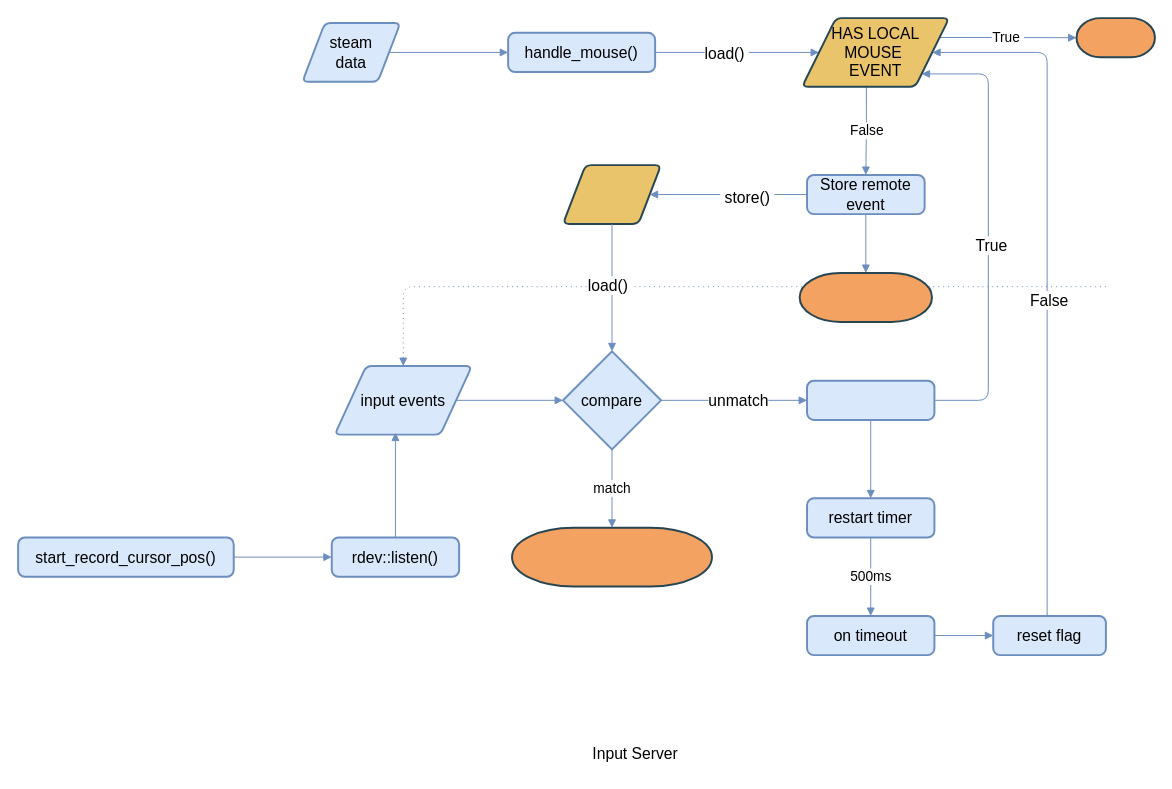
The diagram is 1172 pixels wide and 789 high, and some of its shapes have lost their labels. Here are the shapes that lost their labels. From the top down, the centre of each, then its label:
the point at 1115,37: Discard
the point at 612,194: LAST MOUSE EVENT
the point at 865,296: Simulate remote event
the point at 870,399: set flag
the point at 611,556: This is a simulated event, do nothing
